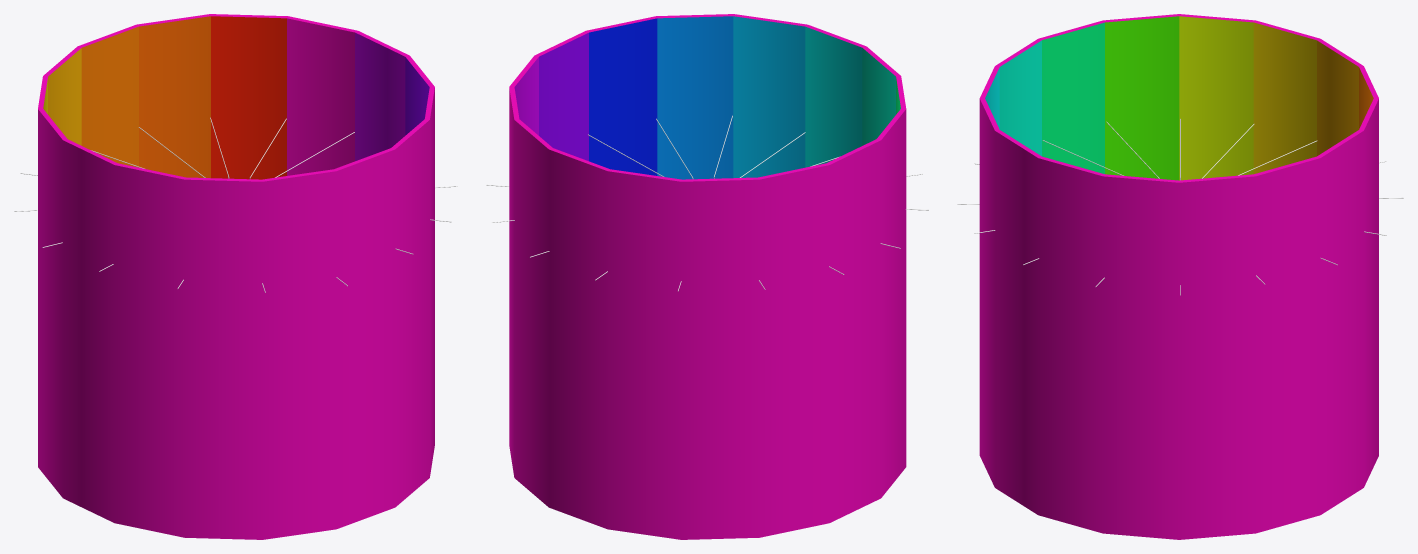
File: Gitter_Karussell mit Raum.fbx
The picture shows the model from 3 angles, left to right: view 1: azimuth 30°, elevation 25°; view 2: azimuth 150°, elevation 25°; view 3: azimuth 270°, elevation 25°; orthographic projection.
Parts seen in each view (by area): view 1: Röhre_3; view 2: Röhre_3; view 3: Röhre_3.
Boxes of the visible parts, <box> form: Röhre_3: <box>38,14,434,539</box>; Röhre_3: <box>509,14,906,539</box>; Röhre_3: <box>979,14,1378,539</box>.
Bounding box in the file's own units: 1615 × 1427 × 1616.
